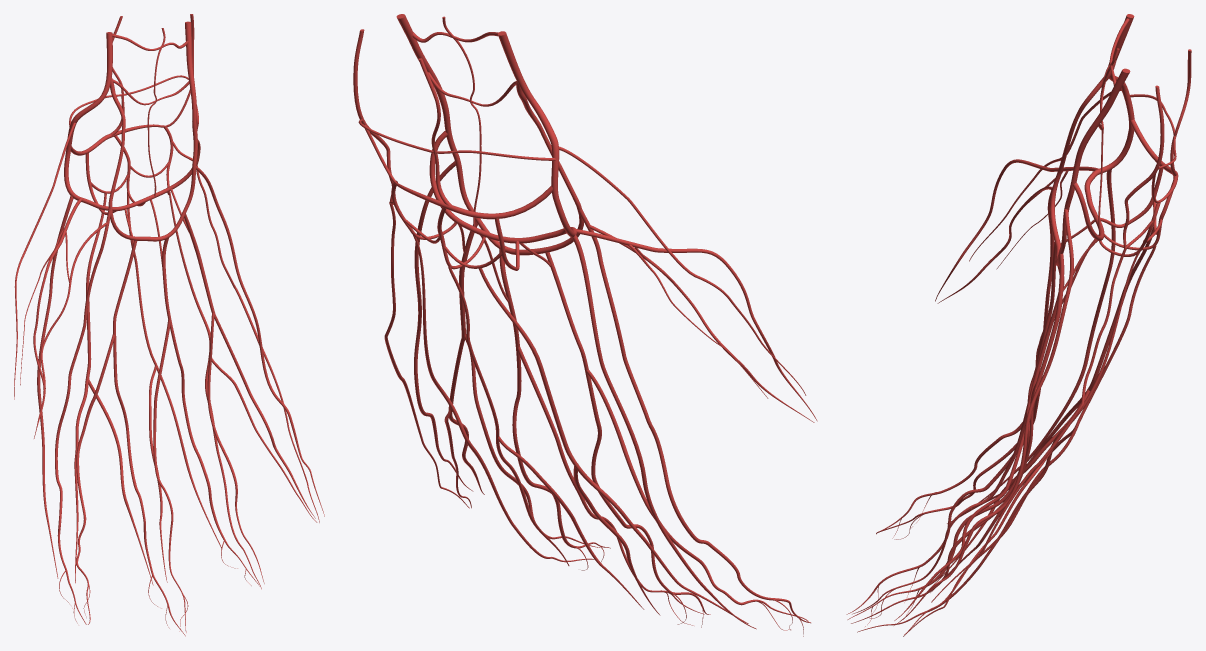
The model's file is open3d-hand-arterial-01.glb.
3 renders of one model, left to right at view 1: azimuth 30°, elevation 25°; view 2: azimuth 150°, elevation 25°; view 3: azimuth 270°, elevation 25°, orthographic. The views are drawn at different scales.
Parts seen in each view (by area): view 1: O3D_25f0e23a9a7b60, O3D_25afbe9ee3f154, O3D_eac0a4bf9ef8aa, O3D_d63db8a2ad940c, O3D_e0c7ca2d0a1a87, O3D_5d5058de4a702c, O3D_1783c7fca236d8, O3D_be1f0f596298b4, O3D_5a4eba6b47b478, O3D_52aa7f1f8f965f, O3D_e7f76e7591acd8, O3D_b9939ce9de3f42 (+1 smaller); view 2: O3D_25f0e23a9a7b60, O3D_25afbe9ee3f154, O3D_eac0a4bf9ef8aa, O3D_5d5058de4a702c, O3D_be1f0f596298b4, O3D_d63db8a2ad940c, O3D_e0c7ca2d0a1a87, O3D_1783c7fca236d8, O3D_5a4eba6b47b478, O3D_52aa7f1f8f965f, O3D_b9939ce9de3f42, O3D_e7f76e7591acd8 (+3 smaller); view 3: O3D_25f0e23a9a7b60, O3D_25afbe9ee3f154, O3D_eac0a4bf9ef8aa, O3D_e0c7ca2d0a1a87, O3D_d63db8a2ad940c, O3D_5d5058de4a702c, O3D_be1f0f596298b4, O3D_5a4eba6b47b478, O3D_52aa7f1f8f965f, O3D_1783c7fca236d8, O3D_44786426857846, O3D_b9939ce9de3f42 (+4 smaller).
Boxes of the visible parts, <box> form: O3D_25f0e23a9a7b60: <box>59,291,324,636</box>; O3D_25afbe9ee3f154: <box>74,317,319,589</box>; O3D_eac0a4bf9ef8aa: <box>86,165,249,366</box>; O3D_d63db8a2ad940c: <box>108,77,197,241</box>; O3D_e0c7ca2d0a1a87: <box>113,166,245,334</box>; O3D_5d5058de4a702c: <box>20,198,107,438</box>; O3D_1783c7fca236d8: <box>55,207,110,624</box>; O3D_be1f0f596298b4: <box>64,94,200,211</box>; O3D_5a4eba6b47b478: <box>37,192,74,578</box>; O3D_52aa7f1f8f965f: <box>69,75,192,193</box>; O3D_e7f76e7591acd8: <box>14,122,75,399</box>; O3D_b9939ce9de3f42: <box>71,89,190,155</box>; O3D_25f0e23a9a7b60: <box>414,307,808,636</box>; O3D_25afbe9ee3f154: <box>391,359,748,623</box>; O3D_eac0a4bf9ef8aa: <box>384,203,570,452</box>; O3D_5d5058de4a702c: <box>575,225,817,422</box>; O3D_be1f0f596298b4: <box>429,99,576,243</box>; O3D_d63db8a2ad940c: <box>432,73,583,255</box>; O3D_e0c7ca2d0a1a87: <box>414,161,588,370</box>; O3D_1783c7fca236d8: <box>578,209,810,623</box>; O3D_5a4eba6b47b478: <box>572,234,756,629</box>; O3D_52aa7f1f8f965f: <box>358,119,556,268</box>; O3D_b9939ce9de3f42: <box>364,125,552,219</box>; O3D_e7f76e7591acd8: <box>559,146,806,395</box>; O3D_25f0e23a9a7b60: <box>846,327,1047,626</box>; O3D_25afbe9ee3f154: <box>857,379,1095,636</box>; O3D_eac0a4bf9ef8aa: <box>1058,226,1156,437</box>; O3D_e0c7ca2d0a1a87: <box>1036,208,1073,386</box>; O3D_d63db8a2ad940c: <box>1050,59,1116,266</box>; O3D_5d5058de4a702c: <box>935,159,1098,303</box>; O3D_be1f0f596298b4: <box>1072,75,1134,240</box>; O3D_5a4eba6b47b478: <box>978,169,1115,502</box>; O3D_52aa7f1f8f965f: <box>1125,94,1176,250</box>; O3D_1783c7fca236d8: <box>878,186,1054,531</box>; O3D_44786426857846: <box>1123,85,1164,247</box>; O3D_b9939ce9de3f42: <box>1130,119,1178,203</box>.
Bounding box in the file's own units: 0.105 × 0.1813 × 0.0907.
